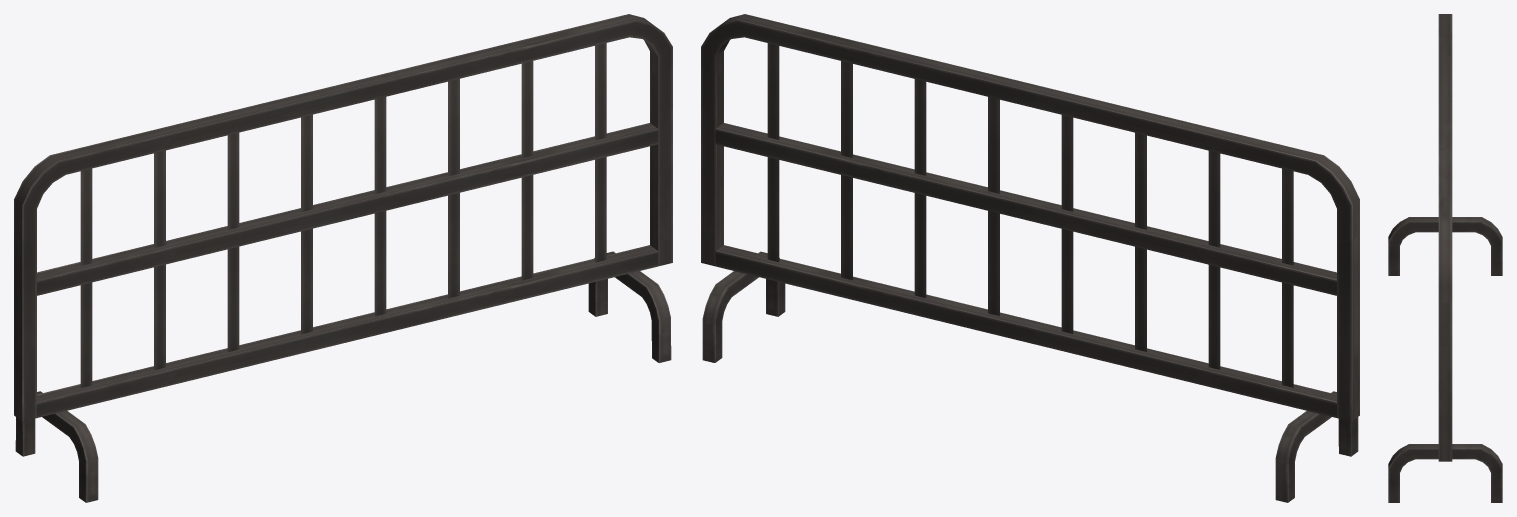
Rendered from RailingA.FBX.
3 renders of one model, left to right at view 1: azimuth 30°, elevation 25°; view 2: azimuth 150°, elevation 25°; view 3: azimuth 270°, elevation 25°, orthographic. The views are drawn at different scales.
Visible parts, largest first — view 1: RailingA_ms1; view 2: RailingA_ms1; view 3: RailingA_ms1.
Part boxes in pixels (<box>): RailingA_ms1: <box>14,14,672,502</box>; RailingA_ms1: <box>701,14,1359,502</box>; RailingA_ms1: <box>1388,14,1502,502</box>.
Size of the model in its own units: 264 by 123 by 49.5.
